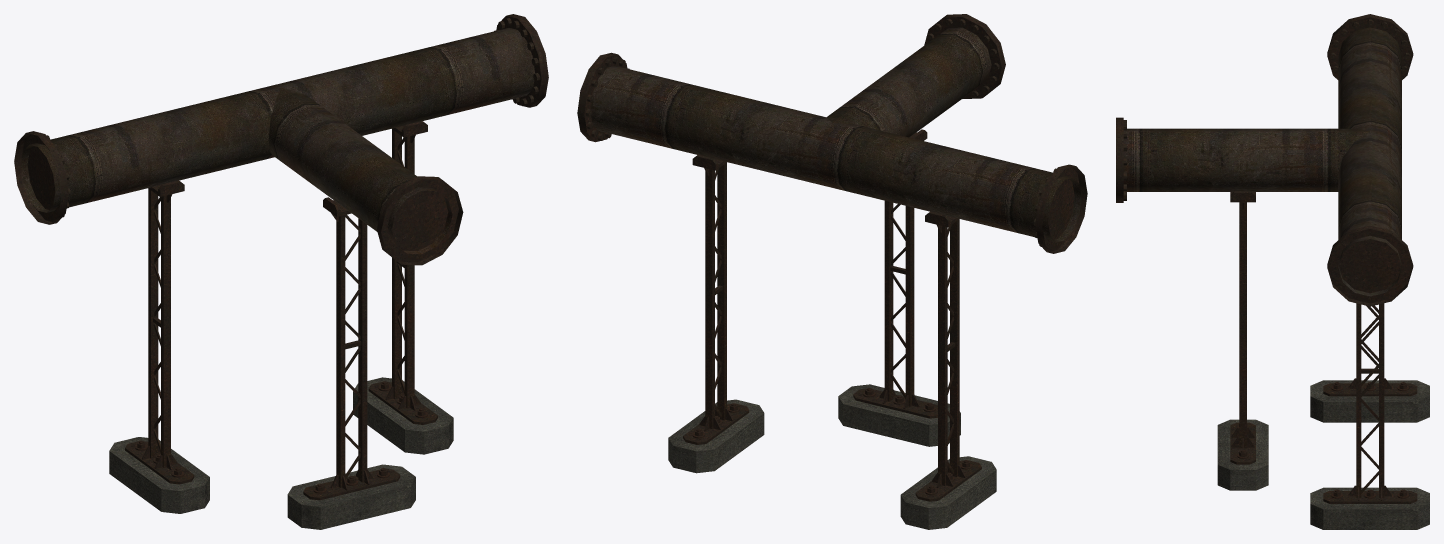
Rendered from pipe_cx_4.glb.
The picture shows the model from 3 angles, left to right: view 1: azimuth 30°, elevation 25°; view 2: azimuth 150°, elevation 25°; view 3: azimuth 270°, elevation 25°; orthographic projection. The views are drawn at different scales.
Parts seen in each view (by area): view 1: pipe_cx_4; view 2: pipe_cx_4; view 3: pipe_cx_4.
Part boxes in pixels (box(x1,y1,x2,y2)): pipe_cx_4: box(14, 14, 548, 529); pipe_cx_4: box(577, 14, 1087, 529); pipe_cx_4: box(1116, 14, 1429, 529).
Bounding box in the file's own units: 4 × 2.99 × 2.47.
3 materials, 3 textured.
